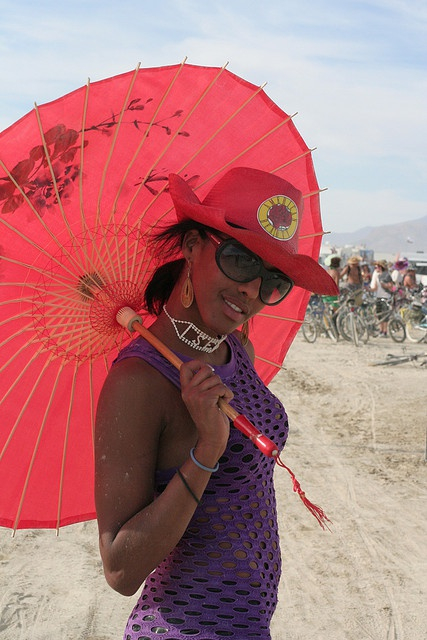non-vehicle: (338, 295, 406, 344), (301, 294, 340, 343), (340, 288, 367, 347), (405, 301, 427, 344)
